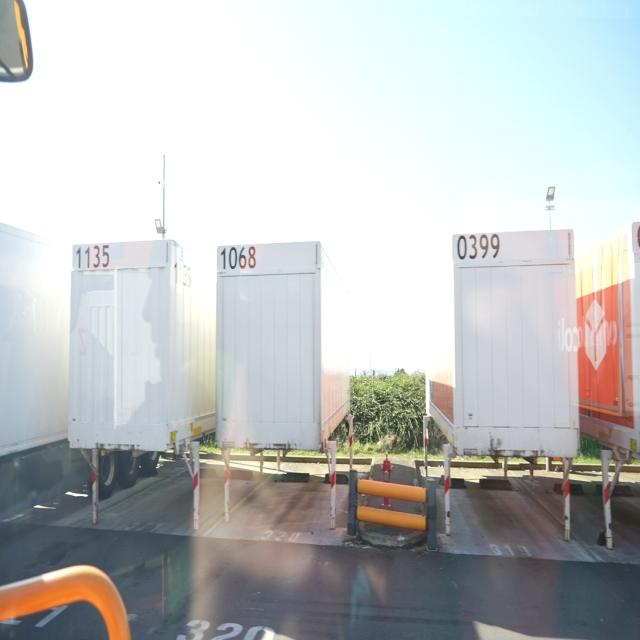Code: (456, 231, 502, 265), (217, 241, 256, 275), (73, 243, 111, 270)
